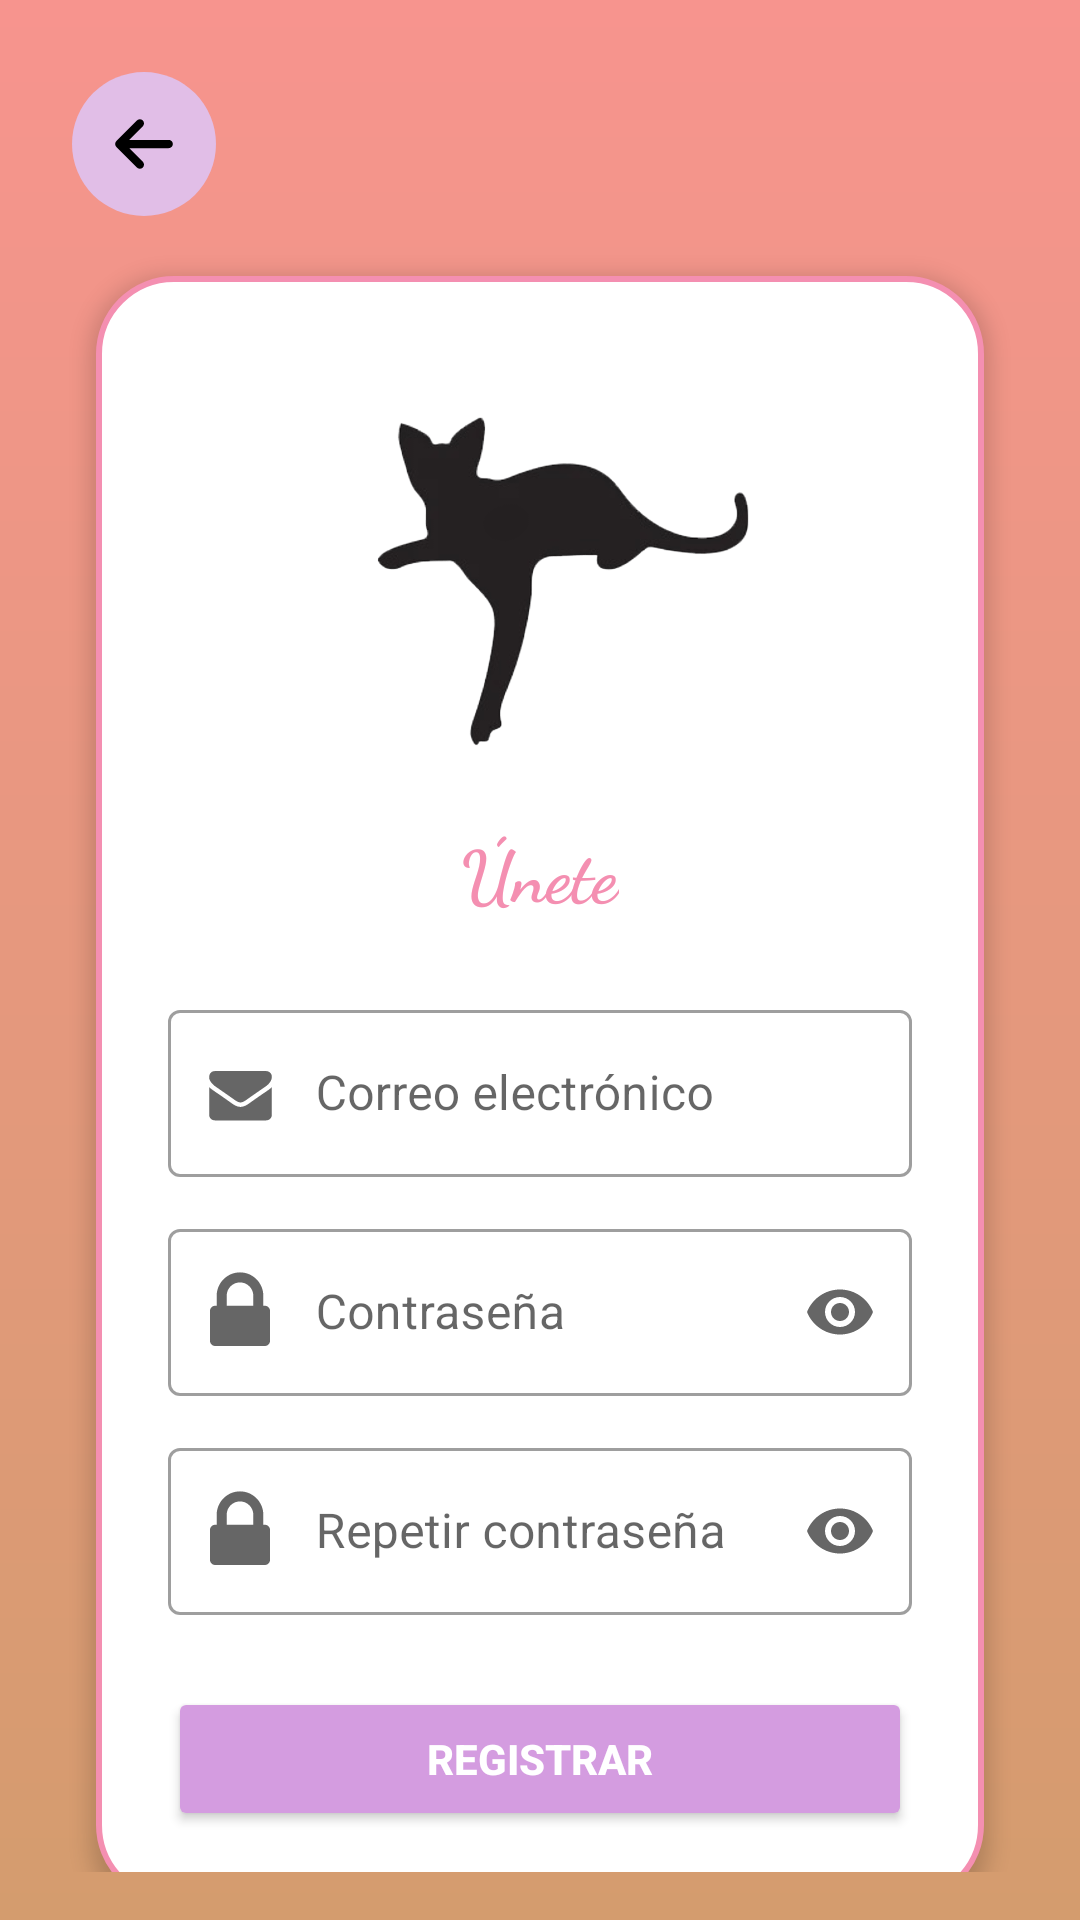

Named icons in this screenshot (1080*1920) and their centers, [x,y]:
Volver: [144,144]
